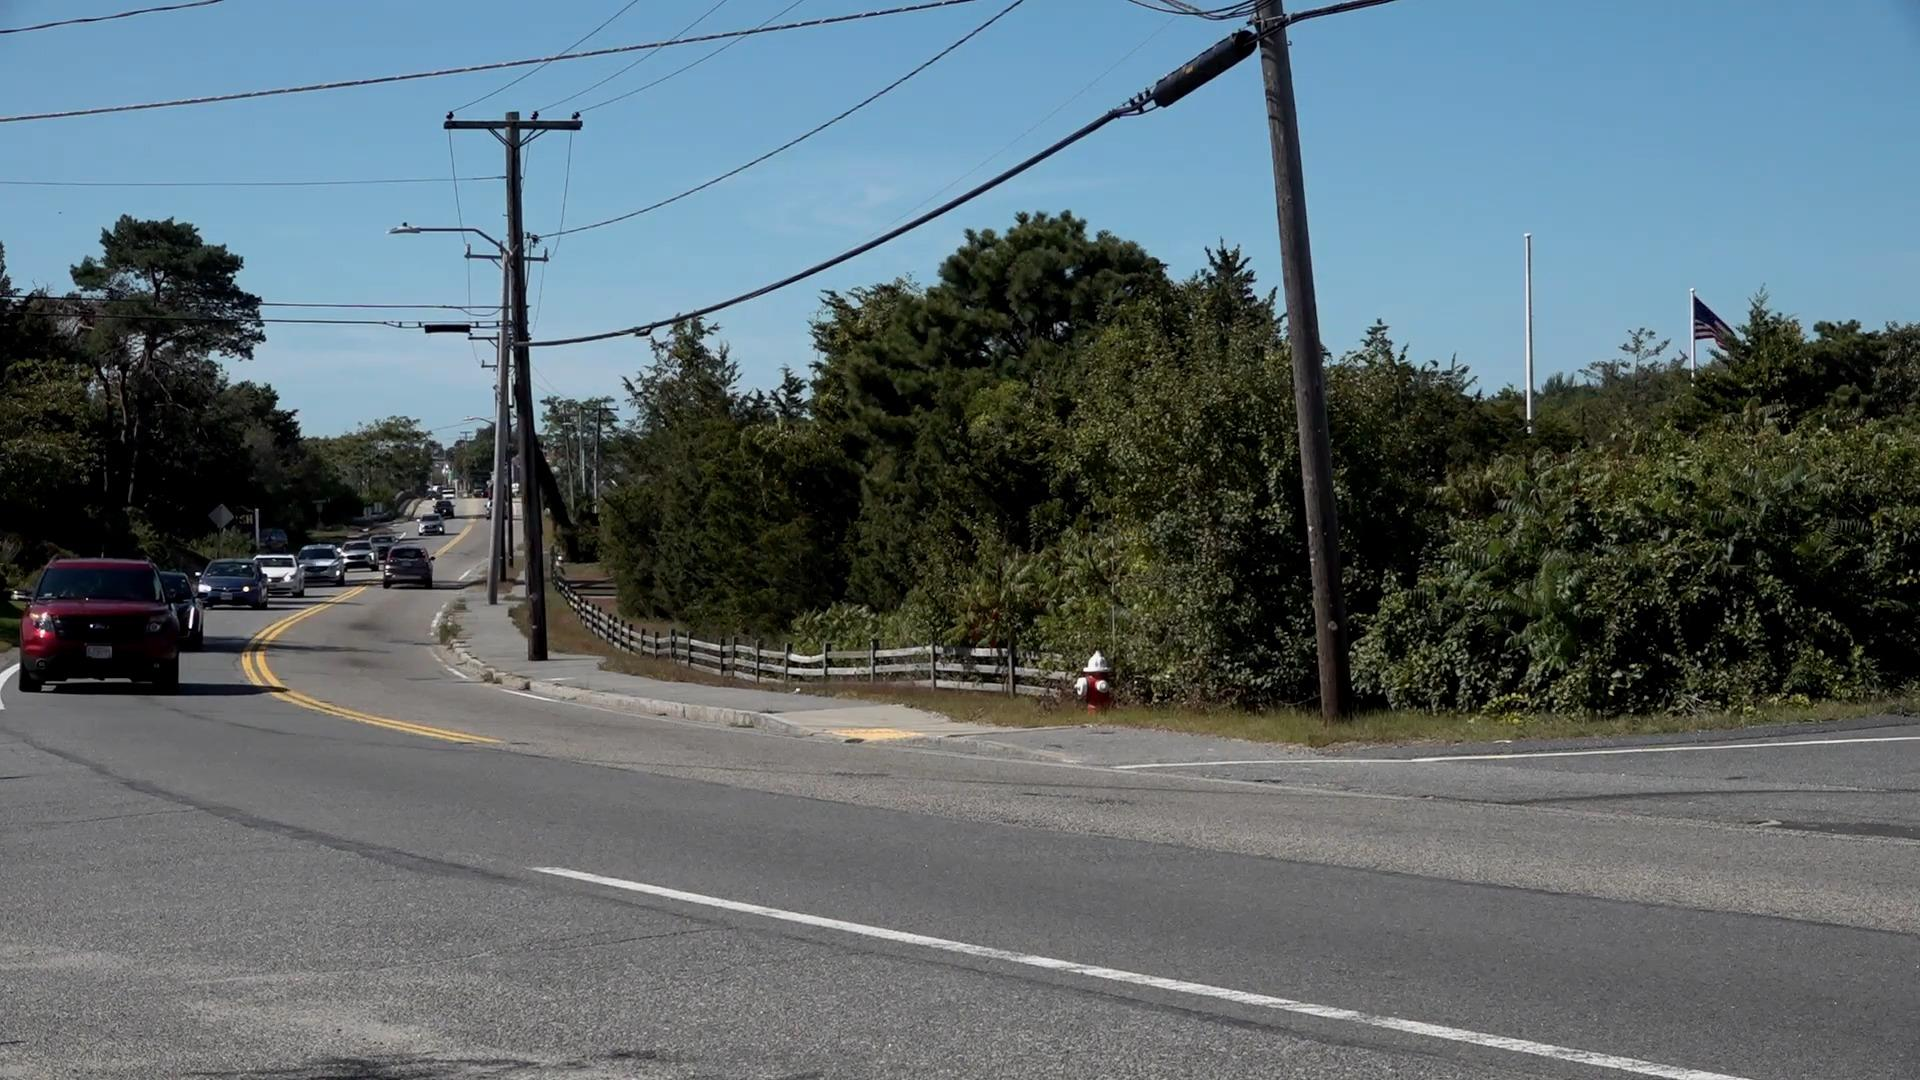suv: (14, 564, 183, 700)
